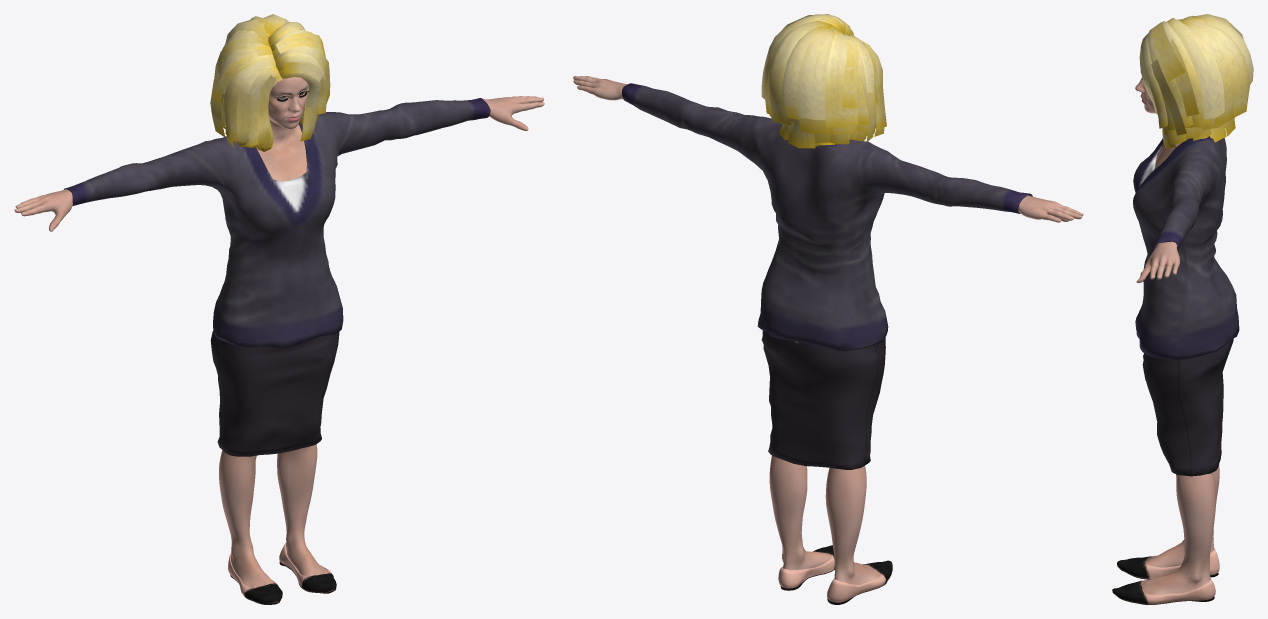
The model's file is Lauren.obj.
The picture shows the model from 3 angles, left to right: view 1: azimuth 30°, elevation 25°; view 2: azimuth 150°, elevation 25°; view 3: azimuth 270°, elevation 25°; orthographic projection. The views are drawn at different scales.
Parts seen in each view (by area): view 1: Tops, Body, Bottoms, Hair, Shoes; view 2: Tops, Hair, Bottoms, Body, Shoes; view 3: Tops, Hair, Bottoms, Body, Shoes.
Boxes of the visible parts, <box> form: Tops: <box>64,98,490,348</box>; Body: <box>14,77,544,588</box>; Bottoms: <box>210,289,339,456</box>; Hair: <box>210,14,330,151</box>; Shoes: <box>228,542,336,604</box>; Tops: <box>622,83,1032,351</box>; Hair: <box>761,14,886,148</box>; Bottoms: <box>761,295,885,469</box>; Body: <box>573,76,1083,584</box>; Shoes: <box>778,545,892,604</box>; Tops: <box>1133,136,1239,360</box>; Hair: <box>1139,14,1253,148</box>; Bottoms: <box>1142,338,1233,476</box>; Body: <box>1135,70,1219,594</box>; Shoes: <box>1112,548,1219,604</box>.
Size of the model in its own units: 168 by 173 by 38.88.
